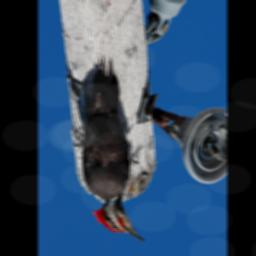Woodpecker: (67, 57, 150, 244)
